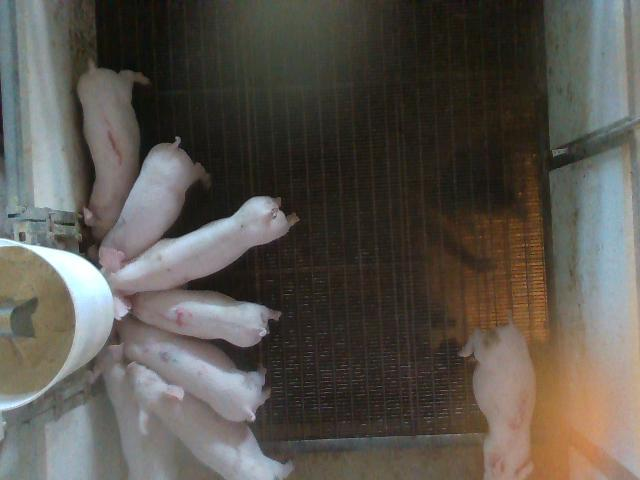pig-1: (78, 61, 149, 242)
pig-3: (459, 318, 536, 478)
pig-4: (130, 290, 281, 348)
